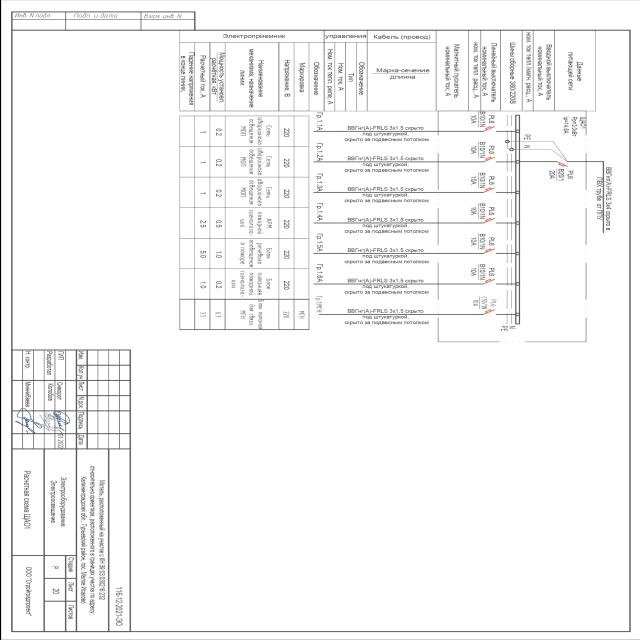-: (467, 172, 495, 190), (467, 202, 495, 220), (468, 140, 496, 158), (467, 262, 495, 280), (467, 232, 495, 250), (468, 110, 496, 128), (546, 168, 574, 184), (469, 296, 497, 310), (576, 116, 586, 130)
QF: (553, 160, 570, 168), (480, 248, 498, 255), (480, 309, 498, 316), (480, 217, 497, 224), (481, 279, 498, 286), (480, 156, 497, 163), (480, 188, 497, 195), (480, 126, 498, 132)
